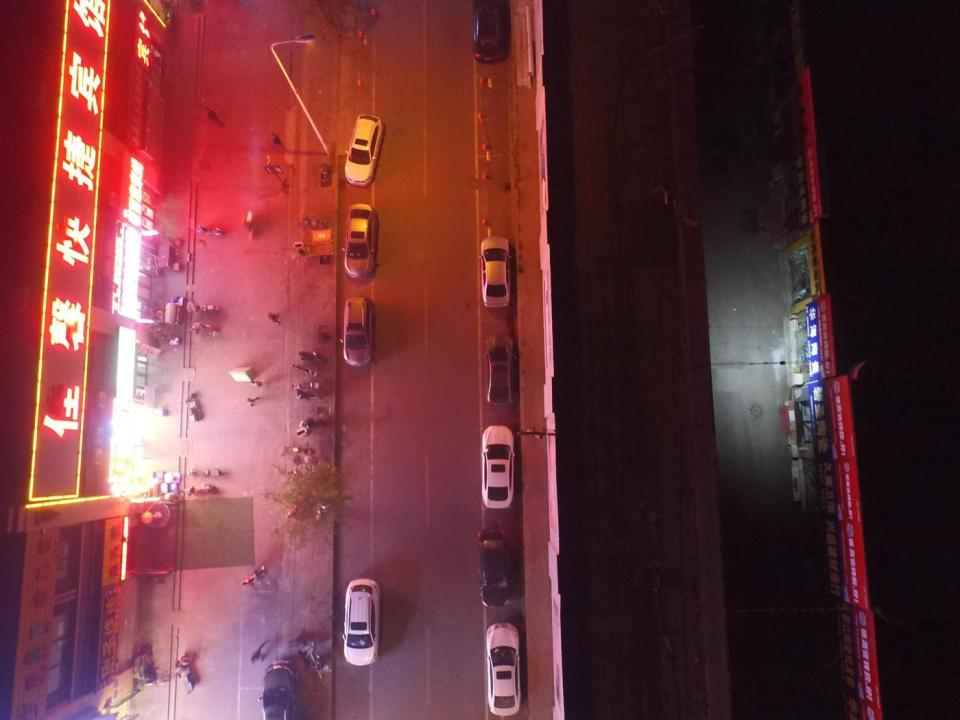car: (486, 622, 521, 716), (481, 425, 515, 508), (341, 204, 378, 278), (477, 528, 510, 608), (478, 236, 512, 306), (483, 335, 516, 406), (258, 660, 296, 720), (472, 0, 502, 63)
van: (342, 579, 380, 665), (344, 114, 384, 187), (340, 297, 372, 365)
